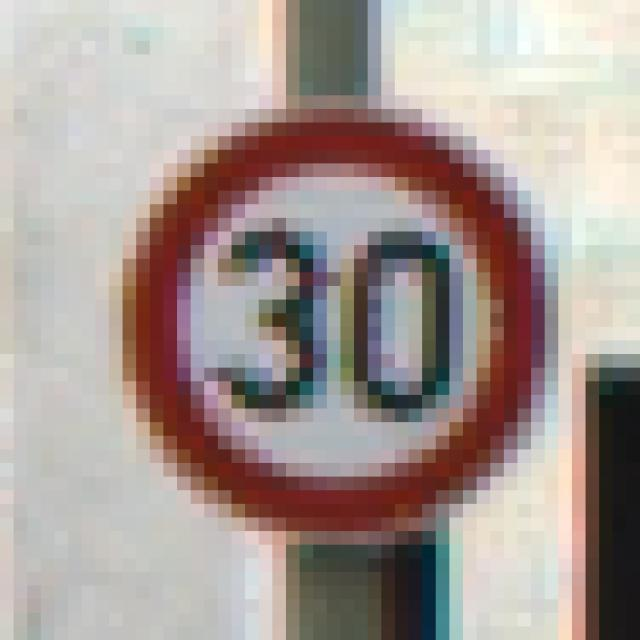Speed Limit -30-: (74, 61, 552, 552)
